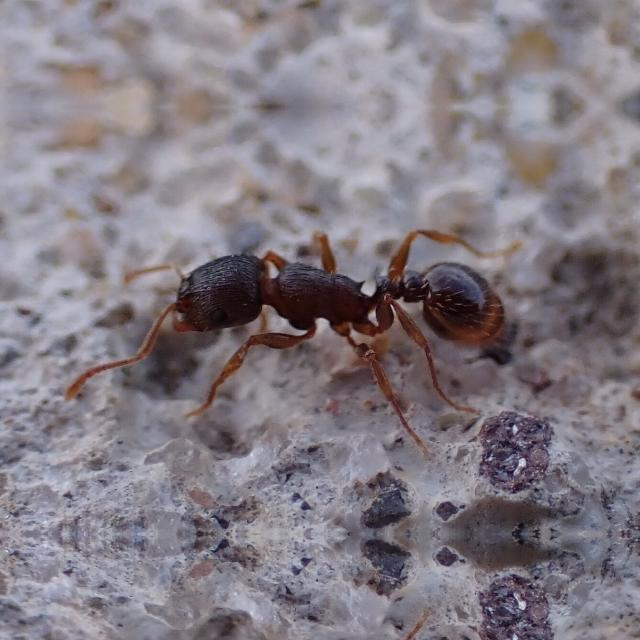Tetramorium: (130, 170, 522, 444)
